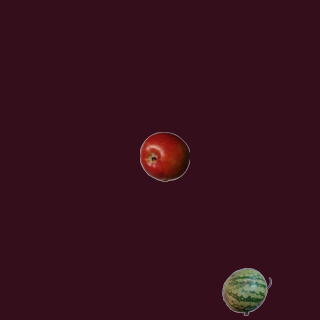Apple Braeburn: (139, 131, 189, 181)
Watermelon: (221, 266, 271, 316)
